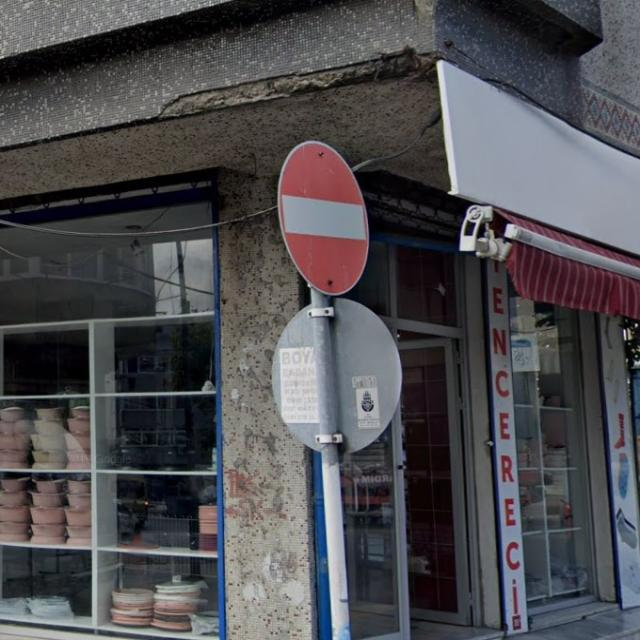girisyok: (280, 140, 371, 296)
